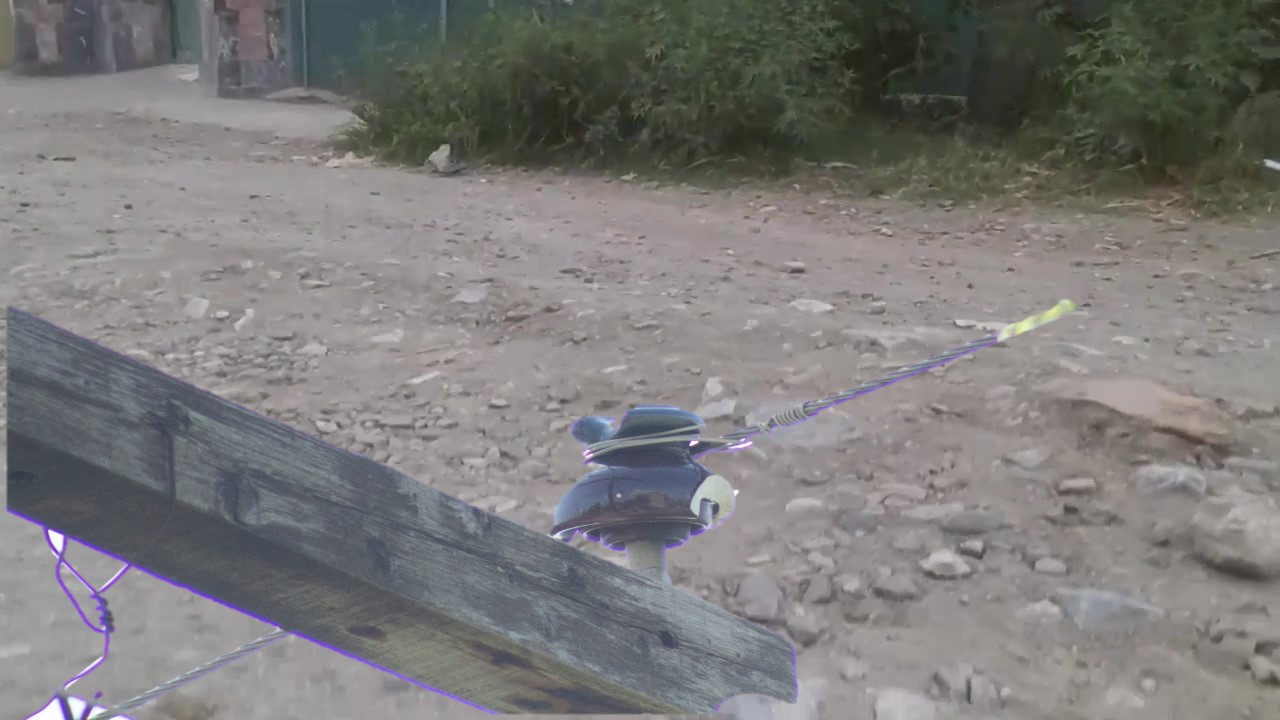defect_pin: (548, 395, 750, 546)
